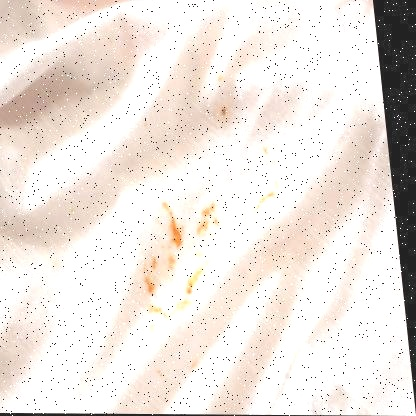kimchi: (120, 180, 229, 328), (241, 138, 293, 216), (204, 65, 230, 89), (209, 101, 231, 124), (187, 360, 204, 377), (155, 370, 166, 382)
